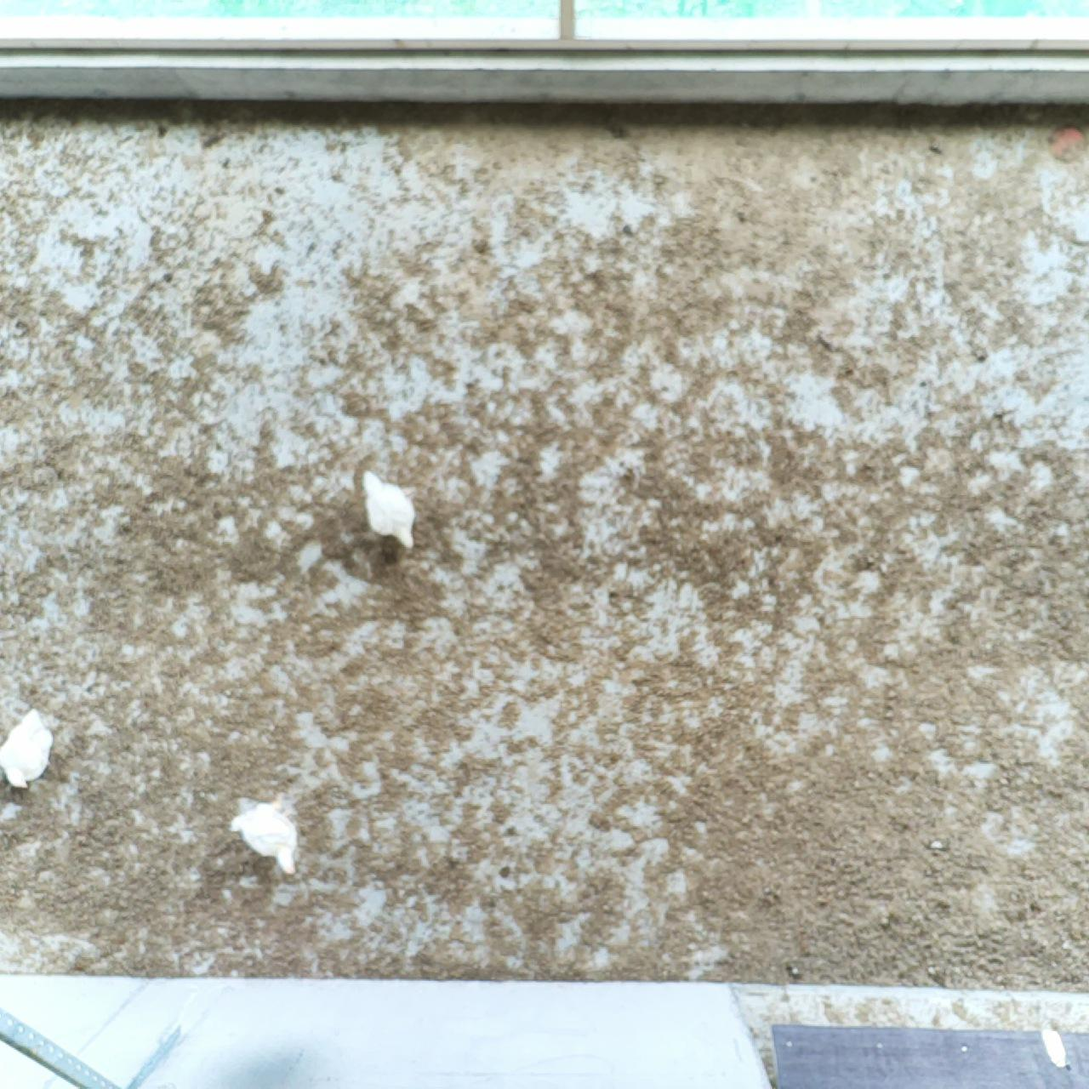chicken: (227, 785, 303, 877), (356, 462, 424, 558), (0, 698, 58, 793)
